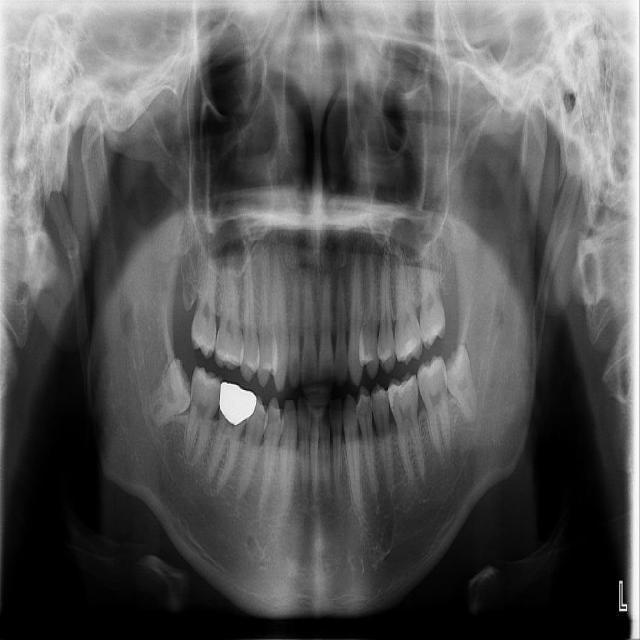Crown: (219, 382, 256, 427)
Filling: (388, 377, 415, 410), (397, 334, 421, 361)
impacted tooth: (145, 360, 191, 429), (443, 343, 479, 422)
